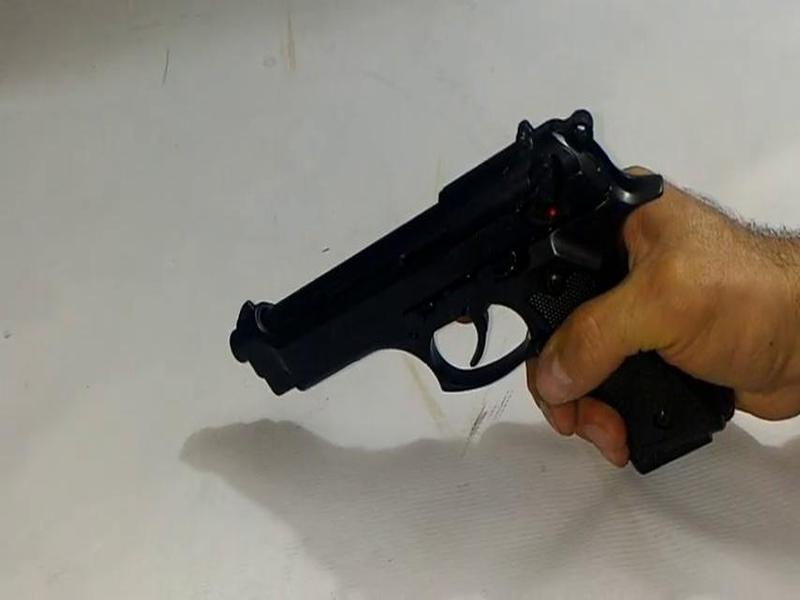Pistola: (223, 94, 756, 490)
